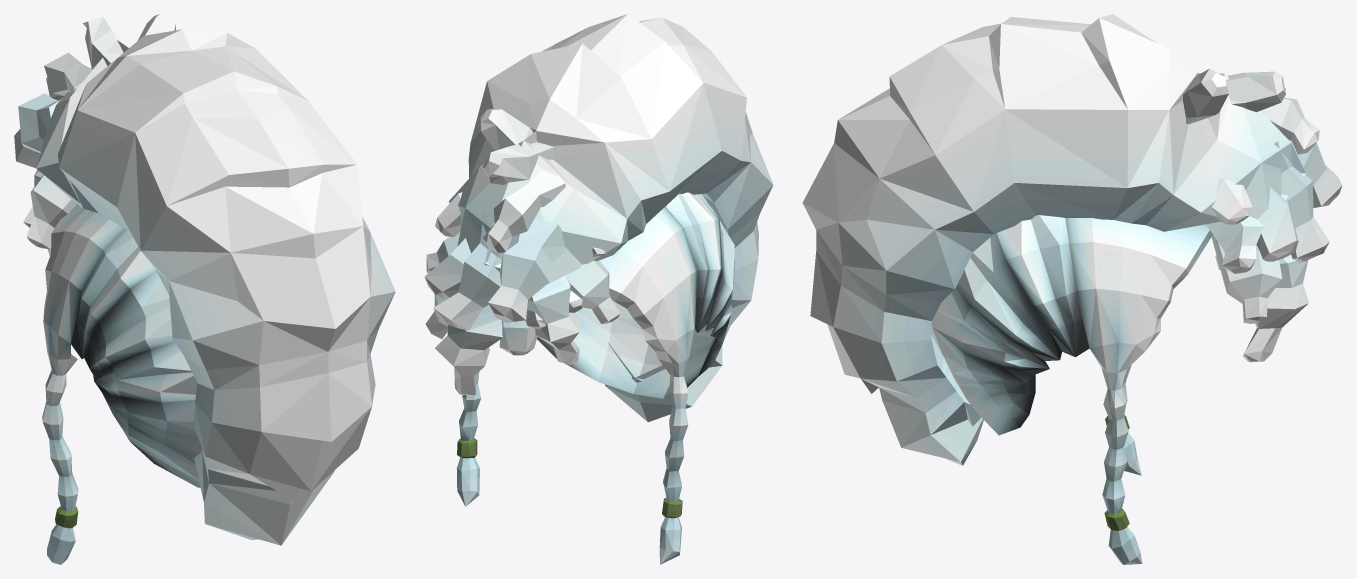
The model's file is CharSkyKid_Hair_AP16Earth.glb.
3 renders of one model, left to right at view 1: azimuth 30°, elevation 25°; view 2: azimuth 150°, elevation 25°; view 3: azimuth 270°, elevation 25°, orthographic. The views are drawn at different scales.
Visible parts, largest first — view 1: CharSkyKid_Hair_AP16Earth; view 2: CharSkyKid_Hair_AP16Earth; view 3: CharSkyKid_Hair_AP16Earth.
Part boxes in pixels (bbox=[...]): CharSkyKid_Hair_AP16Earth: bbox=[14, 14, 395, 564]; CharSkyKid_Hair_AP16Earth: bbox=[424, 14, 773, 564]; CharSkyKid_Hair_AP16Earth: bbox=[802, 14, 1342, 564].
Bounding box in the file's own units: 2.45 × 4.79 × 4.62.
Materials: 1 (1 with a texture image).
